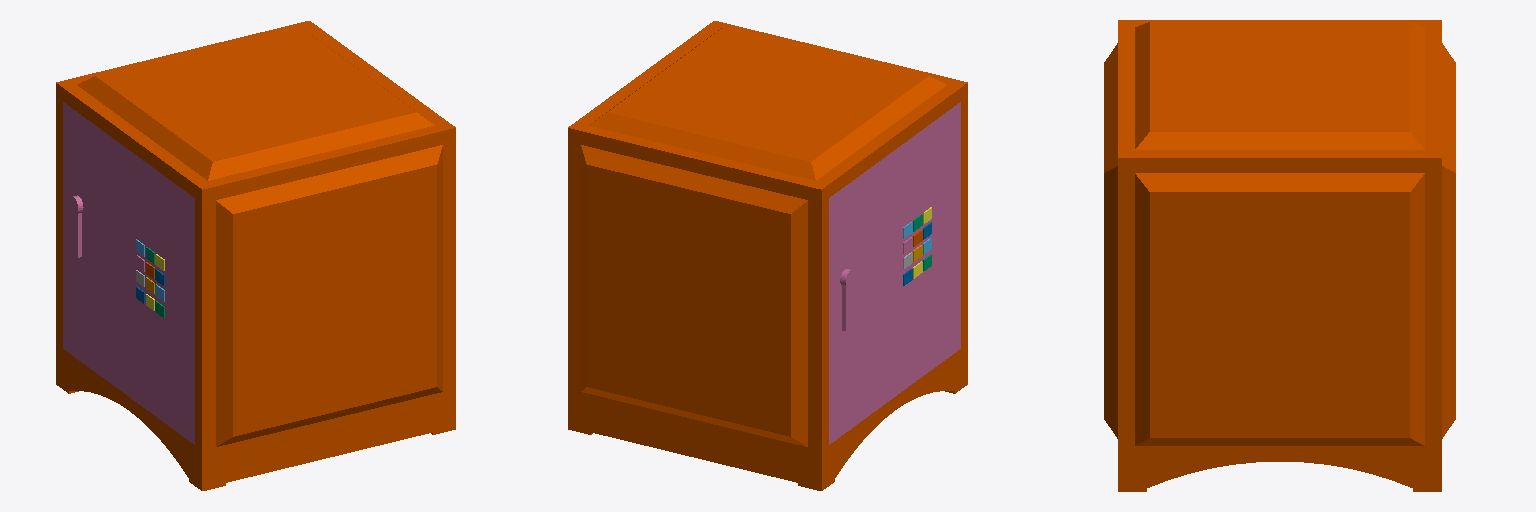
URDF robot description (partnet_117711079f903de35c90c1d7bd498fbb):
<?xml version="1.0" ?>
<robot name="partnet_117711079f903de35c90c1d7bd498fbb">
	<link name="base"/>
	<link name="link_0">
		<visual name="button-5">
			<origin xyz="0 0 0"/>
			<geometry>
				<mesh filename="textured_objs/original-12.obj"/>
			</geometry>
		</visual>
		<collision>
			<origin xyz="0 0 0"/>
			<geometry>
				<mesh filename="textured_objs/original-12.obj"/>
			</geometry>
		</collision>
	</link>
	<joint name="joint_0" type="fixed">
		<origin xyz="-0.53 -0.656388 -0.59"/>
		<axis xyz="0 0 -1"/>
		<child link="link_0"/>
		<parent link="link_13"/>
		<limit lower="0" upper="0.004"/>
	</joint>
	<link name="link_1">
		<visual name="button-6">
			<origin xyz="0 0 0"/>
			<geometry>
				<mesh filename="textured_objs/original-16.obj"/>
			</geometry>
		</visual>
		<collision>
			<origin xyz="0 0 0"/>
			<geometry>
				<mesh filename="textured_objs/original-16.obj"/>
			</geometry>
		</collision>
	</link>
	<joint name="joint_1" type="fixed">
		<origin xyz="-0.53 -0.656388 -0.59"/>
		<axis xyz="0 0 -1"/>
		<child link="link_1"/>
		<parent link="link_13"/>
		<limit lower="0" upper="0.004"/>
	</joint>
	<link name="link_2">
		<visual name="button-7">
			<origin xyz="0 0 0"/>
			<geometry>
				<mesh filename="textured_objs/original-18.obj"/>
			</geometry>
		</visual>
		<collision>
			<origin xyz="0 0 0"/>
			<geometry>
				<mesh filename="textured_objs/original-18.obj"/>
			</geometry>
		</collision>
	</link>
	<joint name="joint_2" type="fixed">
		<origin xyz="-0.53 -0.656388 -0.59"/>
		<axis xyz="0 0 -1"/>
		<child link="link_2"/>
		<parent link="link_13"/>
		<limit lower="0" upper="0.004"/>
	</joint>
	<link name="link_3">
		<visual name="button-8">
			<origin xyz="0 0 0"/>
			<geometry>
				<mesh filename="textured_objs/original-19.obj"/>
			</geometry>
		</visual>
		<collision>
			<origin xyz="0 0 0"/>
			<geometry>
				<mesh filename="textured_objs/original-19.obj"/>
			</geometry>
		</collision>
	</link>
	<joint name="joint_3" type="fixed">
		<origin xyz="-0.53 -0.656388 -0.59"/>
		<axis xyz="0 0 -1"/>
		<child link="link_3"/>
		<parent link="link_13"/>
		<limit lower="0" upper="0.004"/>
	</joint>
	<link name="link_4">
		<visual name="button-9">
			<origin xyz="0 0 0"/>
			<geometry>
				<mesh filename="textured_objs/original-21.obj"/>
			</geometry>
		</visual>
		<collision>
			<origin xyz="0 0 0"/>
			<geometry>
				<mesh filename="textured_objs/original-21.obj"/>
			</geometry>
		</collision>
	</link>
	<joint name="joint_4" type="fixed">
		<origin xyz="-0.53 -0.656388 -0.59"/>
		<axis xyz="0 0 -1"/>
		<child link="link_4"/>
		<parent link="link_13"/>
		<limit lower="0" upper="0.004"/>
	</joint>
	<link name="link_5">
		<visual name="button-10">
			<origin xyz="0 0 0"/>
			<geometry>
				<mesh filename="textured_objs/original-15.obj"/>
			</geometry>
		</visual>
		<collision>
			<origin xyz="0 0 0"/>
			<geometry>
				<mesh filename="textured_objs/original-15.obj"/>
			</geometry>
		</collision>
	</link>
	<joint name="joint_5" type="fixed">
		<origin xyz="-0.53 -0.656388 -0.59"/>
		<axis xyz="0 0 -1"/>
		<child link="link_5"/>
		<parent link="link_13"/>
		<limit lower="0" upper="0.004"/>
	</joint>
	<link name="link_6">
		<visual name="button-11">
			<origin xyz="0 0 0"/>
			<geometry>
				<mesh filename="textured_objs/original-20.obj"/>
			</geometry>
		</visual>
		<collision>
			<origin xyz="0 0 0"/>
			<geometry>
				<mesh filename="textured_objs/original-20.obj"/>
			</geometry>
		</collision>
	</link>
	<joint name="joint_6" type="fixed">
		<origin xyz="-0.53 -0.656388 -0.59"/>
		<axis xyz="0 0 -1"/>
		<child link="link_6"/>
		<parent link="link_13"/>
		<limit lower="0" upper="0.004"/>
	</joint>
	<link name="link_7">
		<visual name="button-12">
			<origin xyz="0 0 0"/>
			<geometry>
				<mesh filename="textured_objs/original-22.obj"/>
			</geometry>
		</visual>
		<collision>
			<origin xyz="0 0 0"/>
			<geometry>
				<mesh filename="textured_objs/original-22.obj"/>
			</geometry>
		</collision>
	</link>
	<joint name="joint_7" type="fixed">
		<origin xyz="-0.53 -0.656388 -0.59"/>
		<axis xyz="0 0 -1"/>
		<child link="link_7"/>
		<parent link="link_13"/>
		<limit lower="0" upper="0.004"/>
	</joint>
	<link name="link_8">
		<visual name="button-13">
			<origin xyz="0 0 0"/>
			<geometry>
				<mesh filename="textured_objs/original-13.obj"/>
			</geometry>
		</visual>
		<collision>
			<origin xyz="0 0 0"/>
			<geometry>
				<mesh filename="textured_objs/original-13.obj"/>
			</geometry>
		</collision>
	</link>
	<joint name="joint_8" type="fixed">
		<origin xyz="-0.53 -0.656388 -0.59"/>
		<axis xyz="0 0 -1"/>
		<child link="link_8"/>
		<parent link="link_13"/>
		<limit lower="0" upper="0.004"/>
	</joint>
	<link name="link_9">
		<visual name="button-14">
			<origin xyz="0 0 0"/>
			<geometry>
				<mesh filename="textured_objs/original-11.obj"/>
			</geometry>
		</visual>
		<collision>
			<origin xyz="0 0 0"/>
			<geometry>
				<mesh filename="textured_objs/original-11.obj"/>
			</geometry>
		</collision>
	</link>
	<joint name="joint_9" type="fixed">
		<origin xyz="-0.53 -0.656388 -0.59"/>
		<axis xyz="0 0 -1"/>
		<child link="link_9"/>
		<parent link="link_13"/>
		<limit lower="0" upper="0.004"/>
	</joint>
	<link name="link_10">
		<visual name="button-15">
			<origin xyz="0 0 0"/>
			<geometry>
				<mesh filename="textured_objs/original-17.obj"/>
			</geometry>
		</visual>
		<collision>
			<origin xyz="0 0 0"/>
			<geometry>
				<mesh filename="textured_objs/original-17.obj"/>
			</geometry>
		</collision>
	</link>
	<joint name="joint_10" type="fixed">
		<origin xyz="-0.53 -0.656388 -0.59"/>
		<axis xyz="0 0 -1"/>
		<child link="link_10"/>
		<parent link="link_13"/>
		<limit lower="0" upper="0.004"/>
	</joint>
	<link name="link_11">
		<visual name="button-16">
			<origin xyz="0 0 0"/>
			<geometry>
				<mesh filename="textured_objs/original-14.obj"/>
			</geometry>
		</visual>
		<collision>
			<origin xyz="0 0 0"/>
			<geometry>
				<mesh filename="textured_objs/original-14.obj"/>
			</geometry>
		</collision>
	</link>
	<joint name="joint_11" type="fixed">
		<origin xyz="-0.53 -0.656388 -0.59"/>
		<axis xyz="0 0 -1"/>
		<child link="link_11"/>
		<parent link="link_13"/>
		<limit lower="0" upper="0.004"/>
	</joint>
	<link name="link_12">
		<visual name="base_body-20">
			<origin xyz="0 0 0"/>
			<geometry>
				<mesh filename="textured_objs/original-4.obj"/>
			</geometry>
		</visual>
		<visual name="base_body-20">
			<origin xyz="0 0 0"/>
			<geometry>
				<mesh filename="textured_objs/original-2.obj"/>
			</geometry>
		</visual>
		<visual name="base_body-20">
			<origin xyz="0 0 0"/>
			<geometry>
				<mesh filename="textured_objs/original-8.obj"/>
			</geometry>
		</visual>
		<visual name="base_body-20">
			<origin xyz="0 0 0"/>
			<geometry>
				<mesh filename="textured_objs/original-6.obj"/>
			</geometry>
		</visual>
		<visual name="base_body-20">
			<origin xyz="0 0 0"/>
			<geometry>
				<mesh filename="textured_objs/original-7.obj"/>
			</geometry>
		</visual>
		<visual name="base_body-20">
			<origin xyz="0 0 0"/>
			<geometry>
				<mesh filename="textured_objs/original-1.obj"/>
			</geometry>
		</visual>
		<collision>
			<origin xyz="0 0 0"/>
			<geometry>
				<mesh filename="textured_objs/original-4.obj"/>
			</geometry>
		</collision>
		<collision>
			<origin xyz="0 0 0"/>
			<geometry>
				<mesh filename="textured_objs/original-2.obj"/>
			</geometry>
		</collision>
		<collision>
			<origin xyz="0 0 0"/>
			<geometry>
				<mesh filename="textured_objs/original-8.obj"/>
			</geometry>
		</collision>
		<collision>
			<origin xyz="0 0 0"/>
			<geometry>
				<mesh filename="textured_objs/original-6.obj"/>
			</geometry>
		</collision>
		<collision>
			<origin xyz="0 0 0"/>
			<geometry>
				<mesh filename="textured_objs/original-7.obj"/>
			</geometry>
		</collision>
		<collision>
			<origin xyz="0 0 0"/>
			<geometry>
				<mesh filename="textured_objs/original-1-part-0.obj"/>
			</geometry>
		</collision>
		<collision>
			<origin xyz="0 0 0"/>
			<geometry>
				<mesh filename="textured_objs/original-1-part-1.obj"/>
			</geometry>
		</collision>
		<collision>
			<origin xyz="0 0 0"/>
			<geometry>
				<mesh filename="textured_objs/original-1-part-2.obj"/>
			</geometry>
		</collision>
		<collision>
			<origin xyz="0 0 0"/>
			<geometry>
				<mesh filename="textured_objs/original-1-part-3.obj"/>
			</geometry>
		</collision>
		<collision>
			<origin xyz="0 0 0"/>
			<geometry>
				<mesh filename="textured_objs/original-1-part-4.obj"/>
			</geometry>
		</collision>
		<collision>
			<origin xyz="0 0 0"/>
			<geometry>
				<mesh filename="textured_objs/original-1-part-5.obj"/>
			</geometry>
		</collision>
		<collision>
			<origin xyz="0 0 0"/>
			<geometry>
				<mesh filename="textured_objs/original-1-part-6.obj"/>
			</geometry>
		</collision>
		<collision>
			<origin xyz="0 0 0"/>
			<geometry>
				<mesh filename="textured_objs/original-1-part-7.obj"/>
			</geometry>
		</collision>
		<collision>
			<origin xyz="0 0 0"/>
			<geometry>
				<mesh filename="textured_objs/original-1-part-8.obj"/>
			</geometry>
		</collision>
		<collision>
			<origin xyz="0 0 0"/>
			<geometry>
				<mesh filename="textured_objs/original-1-part-9.obj"/>
			</geometry>
		</collision>
		<collision>
			<origin xyz="0 0 0"/>
			<geometry>
				<mesh filename="textured_objs/original-1-part-10.obj"/>
			</geometry>
		</collision>
		<collision>
			<origin xyz="0 0 0"/>
			<geometry>
				<mesh filename="textured_objs/original-1-part-11.obj"/>
			</geometry>
		</collision>
		<collision>
			<origin xyz="0 0 0"/>
			<geometry>
				<mesh filename="textured_objs/original-1-part-12.obj"/>
			</geometry>
		</collision>
		<collision>
			<origin xyz="0 0 0"/>
			<geometry>
				<mesh filename="textured_objs/original-1-part-13.obj"/>
			</geometry>
		</collision>
		<collision>
			<origin xyz="0 0 0"/>
			<geometry>
				<mesh filename="textured_objs/original-1-part-14.obj"/>
			</geometry>
		</collision>
		<collision>
			<origin xyz="0 0 0"/>
			<geometry>
				<mesh filename="textured_objs/original-1-part-15.obj"/>
			</geometry>
		</collision>
		<collision>
			<origin xyz="0 0 0"/>
			<geometry>
				<mesh filename="textured_objs/original-1-part-16.obj"/>
			</geometry>
		</collision>
		<collision>
			<origin xyz="0 0 0"/>
			<geometry>
				<mesh filename="textured_objs/original-1-part-17.obj"/>
			</geometry>
		</collision>
		<collision>
			<origin xyz="0 0 0"/>
			<geometry>
				<mesh filename="textured_objs/original-1-part-18.obj"/>
			</geometry>
		</collision>
		<collision>
			<origin xyz="0 0 0"/>
			<geometry>
				<mesh filename="textured_objs/original-1-part-19.obj"/>
			</geometry>
		</collision>
	</link>
	<joint name="joint_12" type="fixed">
		<origin rpy="1.570796326794897 0 -1.570796326794897" xyz="0 0 0"/>
		<child link="link_12"/>
		<parent link="base"/>
	</joint>
	<link name="link_13">
		<visual name="door-4">
			<origin xyz="-0.53 -0.656388 -0.59"/>
			<geometry>
				<mesh filename="textured_objs/original-5.obj"/>
			</geometry>
		</visual>
		<visual name="door-4">
			<origin xyz="-0.53 -0.656388 -0.59"/>
			<geometry>
				<mesh filename="textured_objs/original-9.obj"/>
			</geometry>
		</visual>
		<visual name="handle-19">
			<origin xyz="-0.53 -0.656388 -0.59"/>
			<geometry>
				<mesh filename="textured_objs/original-10.obj"/>
			</geometry>
		</visual>
		<visual name="handle-19">
			<origin xyz="-0.53 -0.656388 -0.59"/>
			<geometry>
				<mesh filename="textured_objs/original-3.obj"/>
			</geometry>
		</visual>
		<collision>
			<origin xyz="-0.53 -0.656388 -0.59"/>
			<geometry>
				<mesh filename="textured_objs/original-5.obj"/>
			</geometry>
		</collision>
		<collision>
			<origin xyz="-0.53 -0.656388 -0.59"/>
			<geometry>
				<mesh filename="textured_objs/original-9.obj"/>
			</geometry>
		</collision>
		<collision>
			<origin xyz="-0.53 -0.656388 -0.59"/>
			<geometry>
				<mesh filename="textured_objs/original-10.obj"/>
			</geometry>
		</collision>
		<collision>
			<origin xyz="-0.53 -0.656388 -0.59"/>
			<geometry>
				<mesh filename="textured_objs/original-3.obj"/>
			</geometry>
		</collision>
	</link>
	<joint name="joint_13" type="revolute">
		<origin xyz="0.53 0.656388 0.59"/>
		<axis xyz="0 1 0"/>
		<child link="link_13"/>
		<parent link="link_12"/>
		<limit lower="0.0" upper="2.9670597283903604"/>
	</joint>
</robot>

--- Facts derived from the render (not from the file) ---
Views: 3 orthographic renders of the robot side by side, from view 1: azimuth 30°, elevation 25°; view 2: azimuth 150°, elevation 25°; view 3: azimuth 270°, elevation 25°.
Robot: partnet_117711079f903de35c90c1d7bd498fbb — 15 links, 14 joints (1 revolute, 13 fixed); root link base; default pose: every joint at zero.
Visible links, largest first — view 1: link_12, link_13; view 2: link_12, link_13; view 3: link_12.
Link boxes in pixels (<box>): link_12: <box>56,21,455,490</box>; link_13: <box>63,102,194,444</box>; link_12: <box>568,21,967,490</box>; link_13: <box>829,102,960,444</box>; link_12: <box>1104,20,1455,491</box>.
Bounding box of the posed robot: 1.21 × 1.23 × 1.34 m (x, y, z).
22 mesh visuals loaded from 22 distinct referenced files (22 OBJ).
